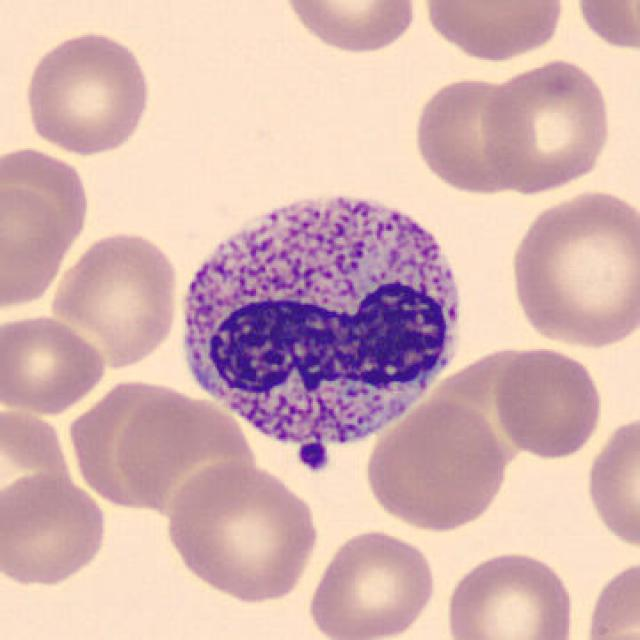Monocyte: (169, 173, 475, 478)
Neutrophil: (167, 173, 477, 476)
Platelets: (294, 439, 334, 474)
RBC: (160, 460, 324, 605), (505, 185, 638, 353), (361, 397, 510, 532), (477, 54, 615, 196), (46, 228, 183, 370), (19, 27, 154, 158), (74, 382, 202, 504), (304, 525, 439, 640), (409, 72, 530, 196), (491, 344, 606, 460), (0, 469, 110, 589), (441, 546, 578, 640), (0, 141, 94, 270), (0, 310, 110, 416), (0, 404, 78, 542), (0, 175, 73, 318), (417, 0, 570, 63), (277, 0, 421, 56), (583, 409, 638, 555), (581, 553, 638, 640), (570, 0, 640, 54), (581, 622, 640, 640)
